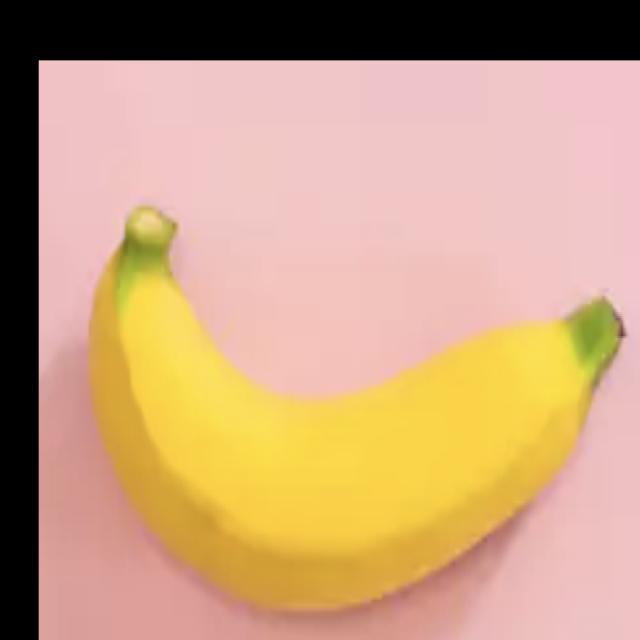Banana: (87, 203, 626, 613)
